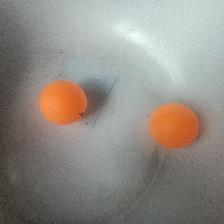YellowBall: (148, 100, 199, 148), (38, 80, 87, 124)
